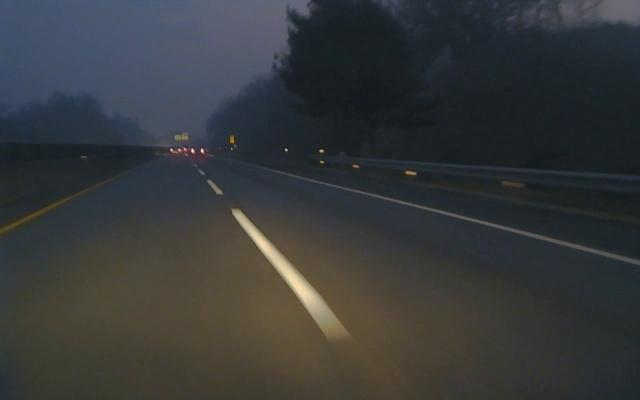lane: (286, 172, 639, 268), (196, 164, 360, 345), (1, 173, 122, 234)
